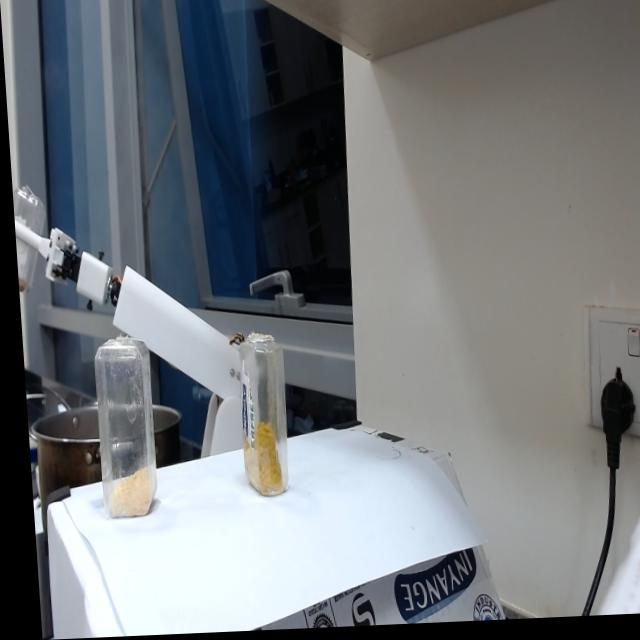cooking_pot: (23, 405, 95, 485)
curry_powder: (236, 431, 281, 498)
garlic_powder: (101, 482, 149, 519)
maggie_open: (14, 270, 27, 300)
